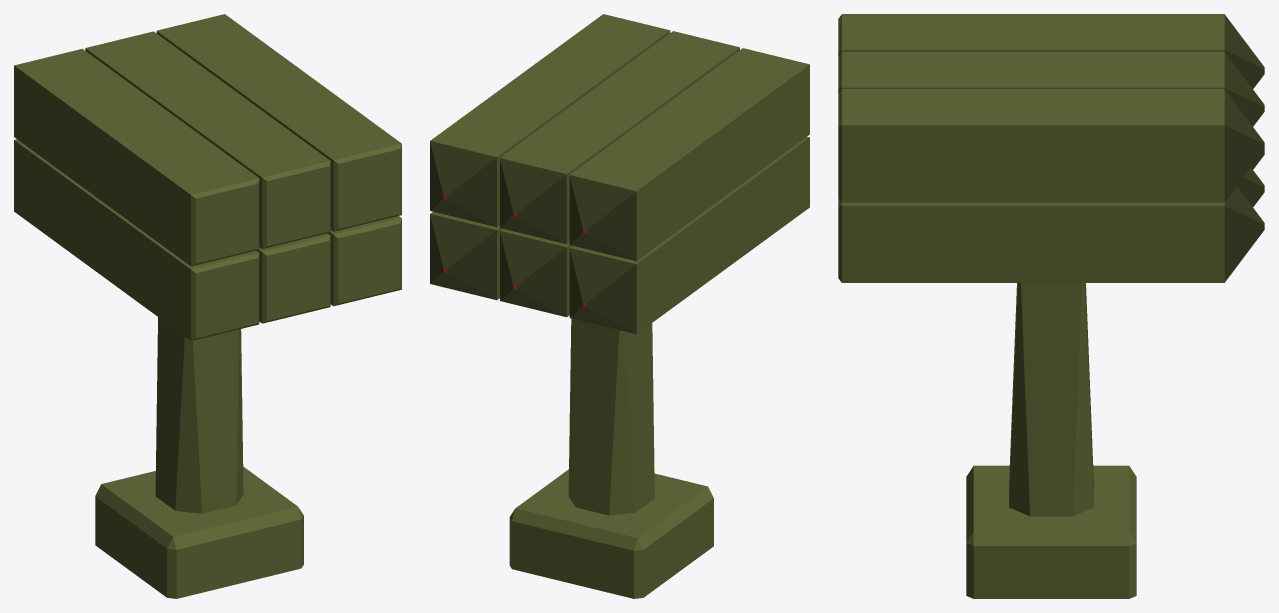
The model's file is Turret3.fbx.
3 views of the same model, side by side, from view 1: azimuth 30°, elevation 25°; view 2: azimuth 150°, elevation 25°; view 3: azimuth 270°, elevation 25° (orthographic). The views are drawn at different scales.
Parts seen in each view (by area): view 1: Base.001, Base; view 2: Base.001, Base; view 3: Base.001, Base.
Part boxes in pixels (x1,y1,x2,y2): Base.001: (14,14,401,340); Base: (95,317,303,598); Base.001: (430,14,809,334); Base: (509,318,713,598); Base.001: (838,14,1264,282); Base: (966,283,1136,598).
Size of the model in its own units: 370 by 766 by 600.
